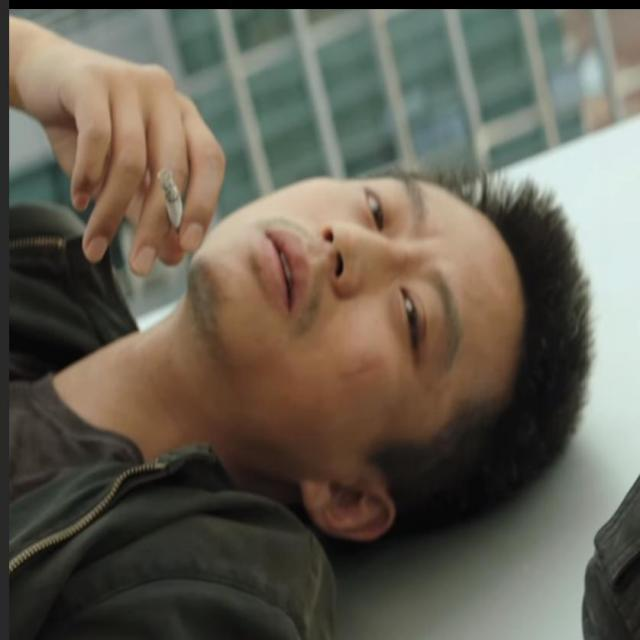smoke: (148, 166, 190, 220)
